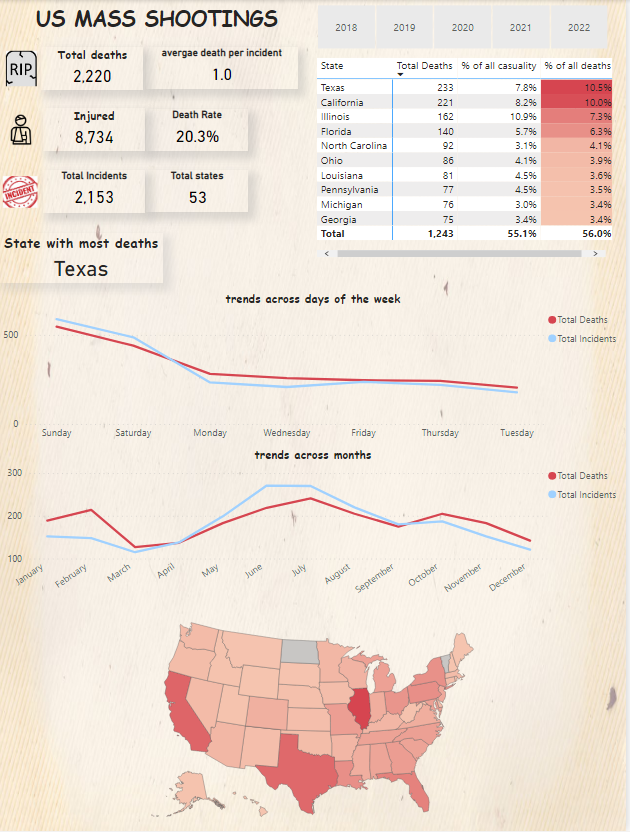

Layout of this report page (visuals, bound fields, positions):
{"tool":"powerbi","page":{"name":"mass shootings","canvas":[816,1080],"ordinal":0},"visuals":[{"type":"card","title":"Total deaths","fields":{"Values":["Shootings.Total Deaths"]},"box":[54.1,60.8,133.4,55.9],"z":0},{"type":"image","box":[0,140.4,57.2,54.6],"z":1000},{"type":"image","box":[0,61.1,57.2,55.9],"z":2000},{"type":"card","title":"Injured","fields":{"Values":["Shootings.Number of Injured"]},"box":[56.6,140.8,133.4,55.9],"z":3000},{"type":"card","title":"Total Incidents","fields":{"Values":["Shootings.Total Incidents"]},"box":[56.6,220.9,133.4,55.9],"z":4000},{"type":"image","box":[0,220.9,54.6,55.9],"z":5000},{"type":"shapeMap","title":"Deaths","fields":{"Category":["Shootings.State"]},"box":[0,790.2,814.9,289.8],"z":6000},{"type":"lineChart","title":"trends across months","fields":{"Y":["Shootings.Total Deaths","Shootings.Total Incidents"],"Category":["Shootings.Date.Variation.Date Hierarchy.Month"]},"box":[0,580.9,816.2,209.2],"z":7000},{"type":"slicer","fields":{"Values":["Shootings.Date.Variation.Date Hierarchy.Year"]},"box":[388.9,0,426.2,69.5],"z":8000},{"type":"card","title":"State with most deaths","fields":{"Values":["Min(Shootings.State)"]},"box":[-0.5,302.2,213.5,64.8],"z":9000},{"type":"pivotTable","fields":{"Rows":["Shootings.State"],"Values":["Shootings.Total Deaths","Shootings.% of all casuality","Shootings.% of all deaths"]},"box":[408.2,69.5,394,269.1],"z":10000},{"type":"lineChart","title":"trends across days of the week","fields":{"Y":["Shootings.Total Deaths","Shootings.Total Incidents"],"Category":["Shootings.Day Name"]},"box":[0,378.2,816.2,202.7],"z":11000},{"type":"card","title":"Death Rate","fields":{"Values":["Shootings.Death Rate"]},"box":[190.6,142.2,132.6,55.4],"z":12000},{"type":"card","title":"Total states","fields":{"Values":["Shootings.Total States"]},"box":[190.6,220.7,132.6,55.4],"z":13000},{"type":"card","title":"avergae death per incident","fields":{"Values":["Shootings.Average death per incident"]},"box":[190.6,61.1,197,55.4],"z":13001},{"type":"textbox","box":[0,0,388.6,54.6],"z":13002}]}

Visuals, with their boxes in screenshot pixels (x1, y1, x2, y2), scaled from the page's 816x1080 canvas onto the 630x832 screenshot:
"Total deaths" card: (42, 47, 145, 90)
image: (0, 108, 44, 150)
image: (0, 47, 44, 90)
"Injured" card: (44, 108, 147, 152)
"Total Incidents" card: (44, 170, 147, 213)
image: (0, 170, 42, 213)
"Deaths" shapeMap: (0, 609, 629, 831)
"trends across months" lineChart: (0, 448, 629, 609)
slicer - Shootings.Date.Variation.Date Hierarchy.Year: (300, 0, 629, 54)
"State with most deaths" card: (0, 233, 164, 283)
pivotTable - Shootings.State x Shootings.Total Deaths: (315, 54, 619, 261)
"trends across days of the week" lineChart: (0, 291, 629, 448)
"Death Rate" card: (147, 110, 250, 152)
"Total states" card: (147, 170, 250, 213)
"avergae death per incident" card: (147, 47, 299, 90)
textbox: (0, 0, 300, 42)
